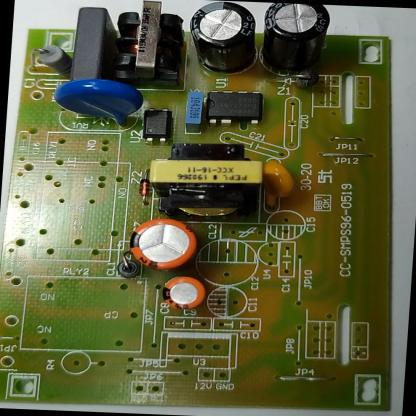Cap1: (128, 217, 199, 271)
Cap2: (157, 274, 206, 312)
Cap3: (184, 0, 259, 74)
Cap4: (259, 3, 330, 76)
MOSFET: (204, 86, 265, 126)
Mov: (51, 76, 147, 122)
Resistor: (34, 42, 72, 76)
Transformer: (143, 138, 266, 224), (107, 0, 186, 84)
